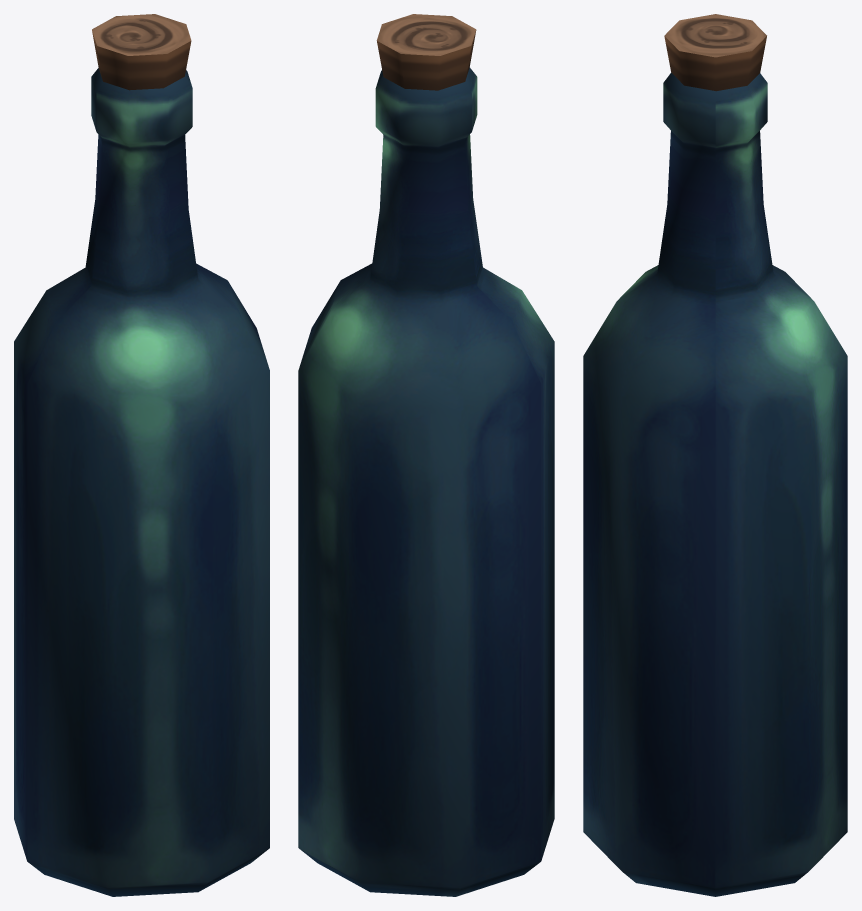
Rendered from bottle2.FBX.
The picture shows the model from 3 angles, left to right: view 1: azimuth 30°, elevation 25°; view 2: azimuth 150°, elevation 25°; view 3: azimuth 270°, elevation 25°; orthographic projection.
Visible parts, largest first — view 1: bottle-2; view 2: bottle-2; view 3: bottle-2.
Part boxes in pixels (x1,y1,x2,y2): bottle-2: (14,14,269,896); bottle-2: (298,14,554,896); bottle-2: (583,14,847,896).
Size of the model in its own units: 7.57 by 25.73 by 7.57.
